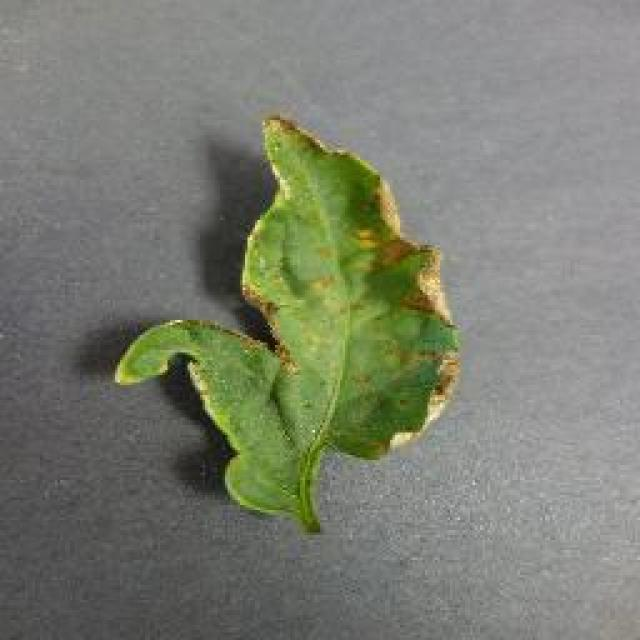Tomato bacterial spot leaf: (94, 105, 472, 542)
